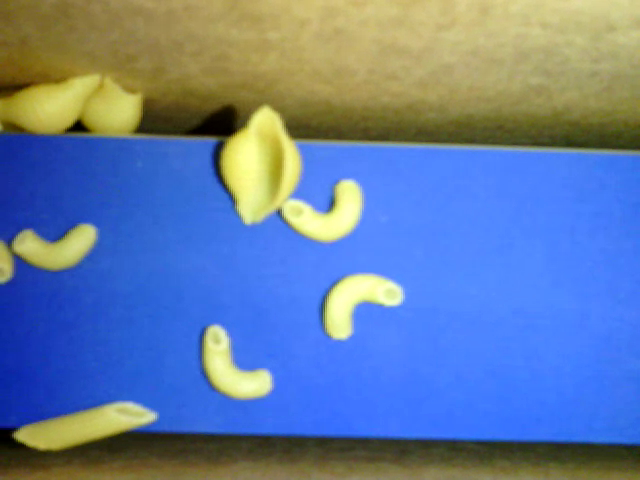elbow: (279, 177, 368, 245), (320, 269, 402, 342), (201, 325, 274, 401), (17, 221, 96, 267), (1, 238, 19, 287)
penne: (15, 400, 153, 455)
shell: (220, 103, 300, 226), (1, 65, 104, 140), (81, 73, 147, 135)
